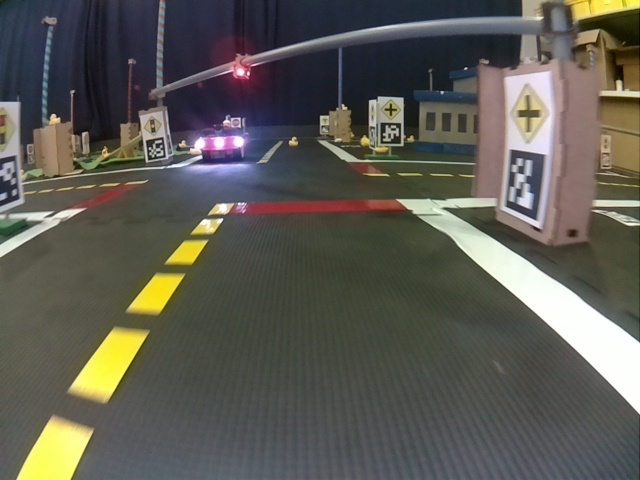Duckie: (289, 138, 298, 146)
Duckiebot: (198, 129, 245, 160)
Intersection sign: (508, 84, 551, 142), (381, 100, 403, 121)
QR code: (502, 149, 546, 223), (3, 164, 24, 207), (146, 138, 166, 162), (379, 124, 398, 144)
Signal sign: (1, 105, 17, 153), (143, 112, 163, 132)
Traffic light: (232, 54, 250, 80)
